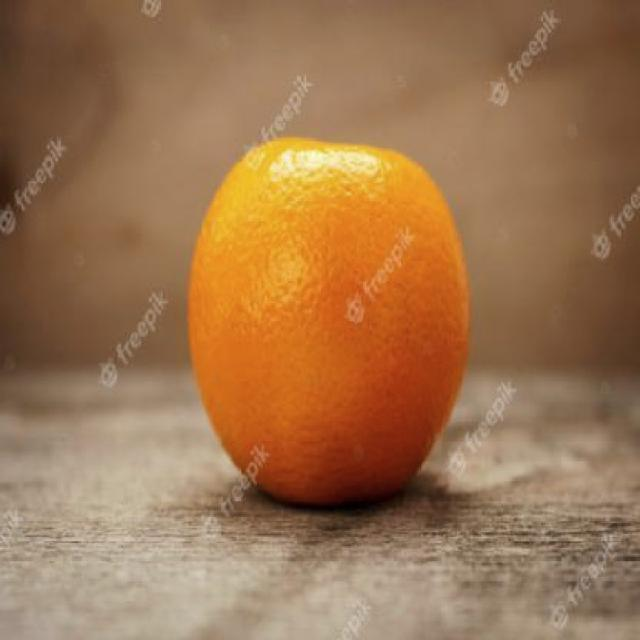Jeruk Sudah Matang: (188, 139, 470, 521)
